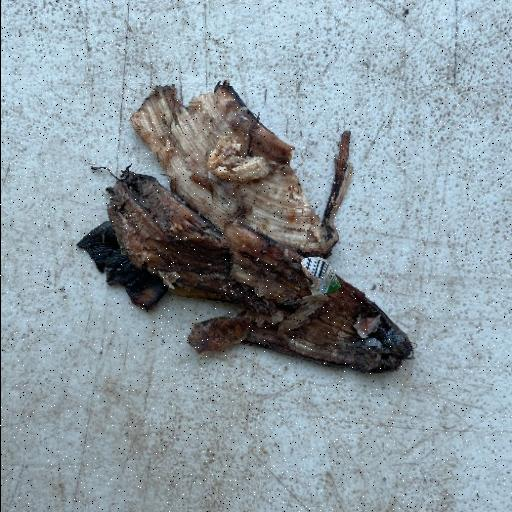Waste: (76, 79, 416, 376)
